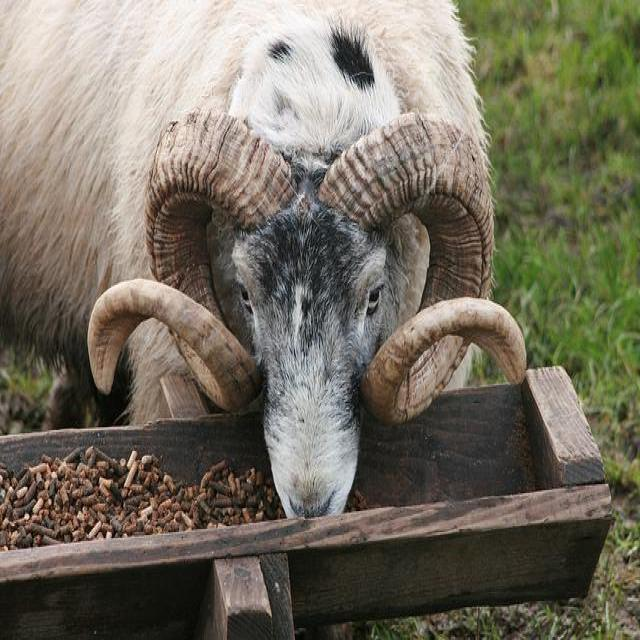Sheep: (2, 2, 530, 517)
